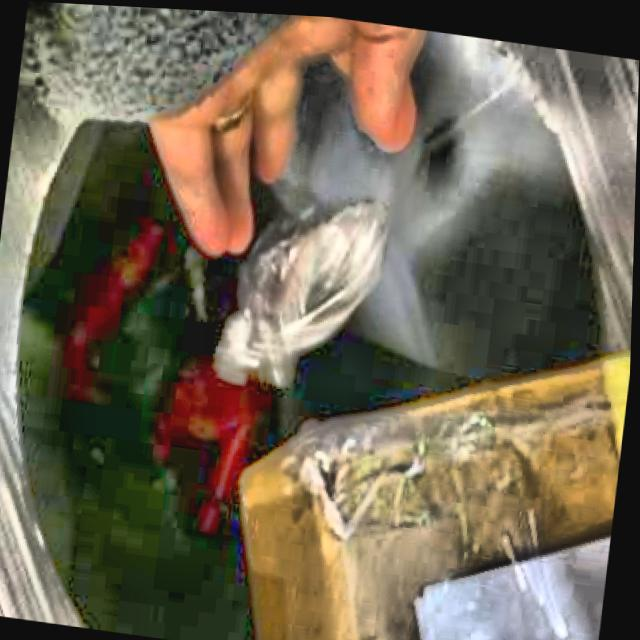metal: (216, 194, 389, 381)
